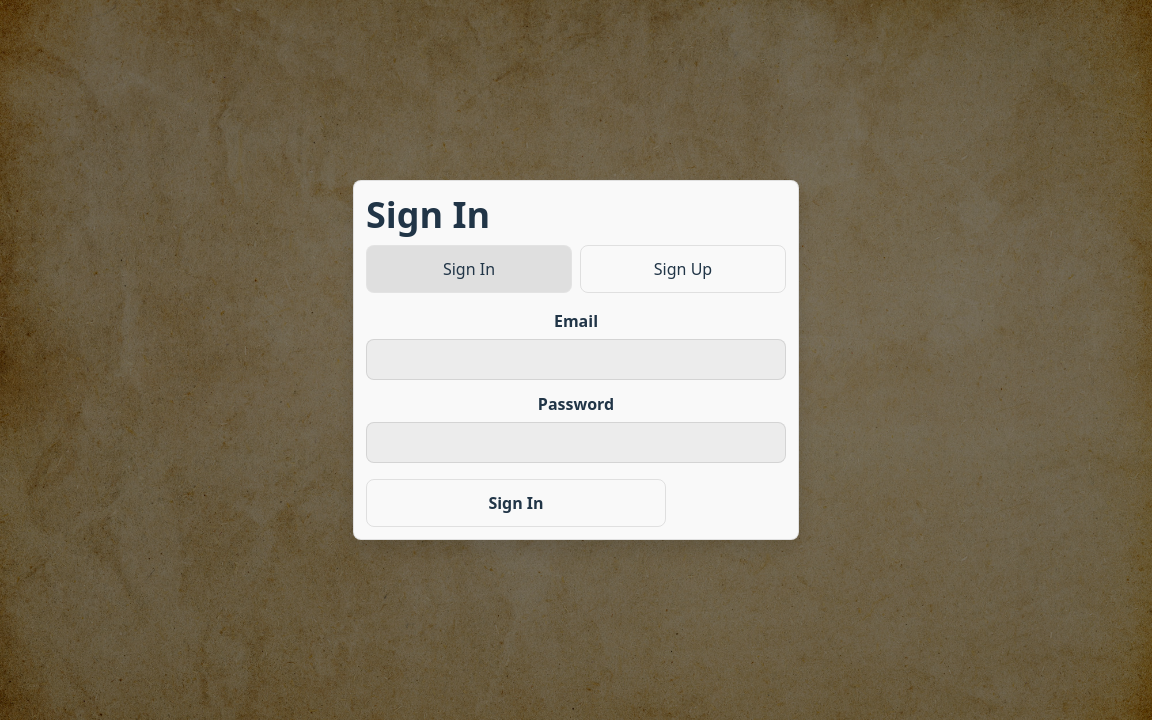
Scenario: LoginWindow › displays error message when passwords do not match in signup mode
The width and height of the screenshot is (1152, 720).
Click the tab "Sign Up".
click(683, 269)  # box [580,245,786,293]
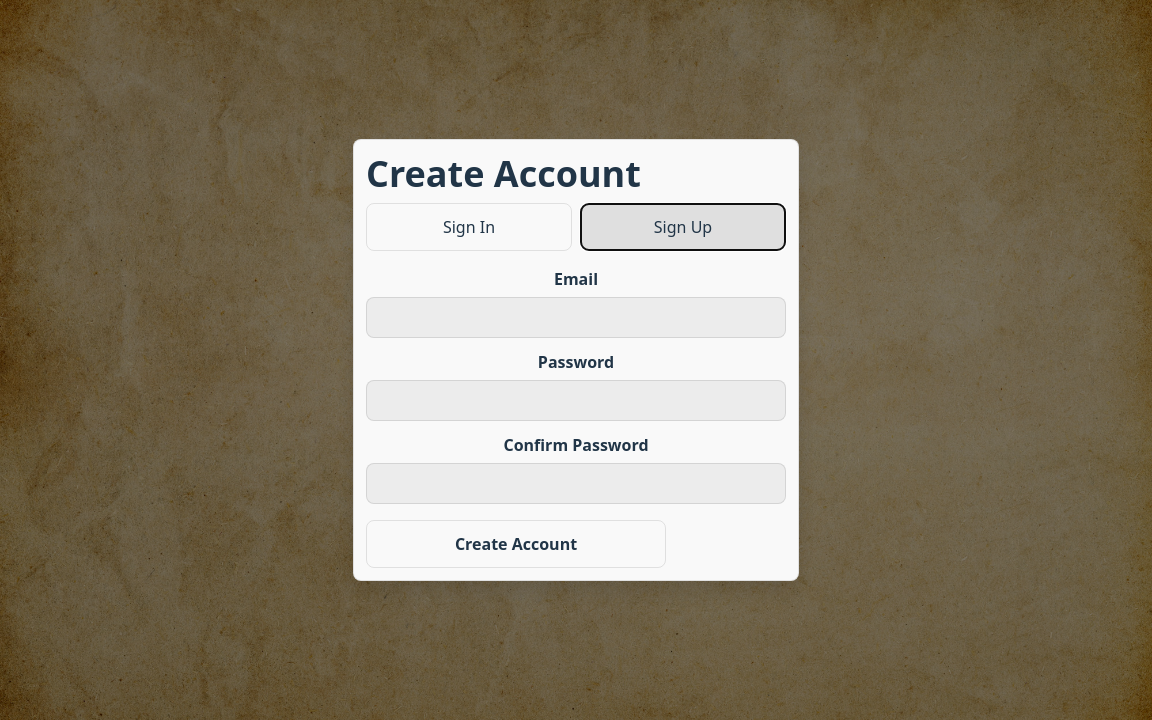
Type "test@example.com" into the field labelled "Email".
click(576, 318); type("test@example.com")  # box [366,297,786,338]
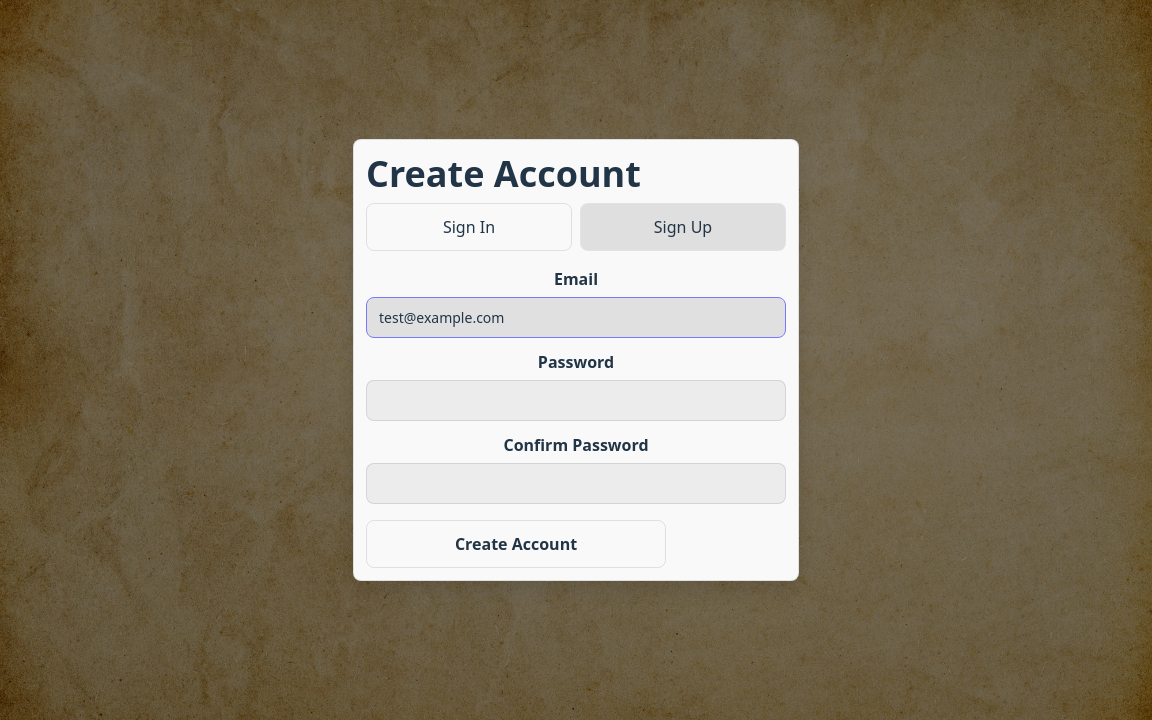
Type "password123" into the password field labelled "Password".
click(576, 401); type("password123")  # box [366,380,786,421]
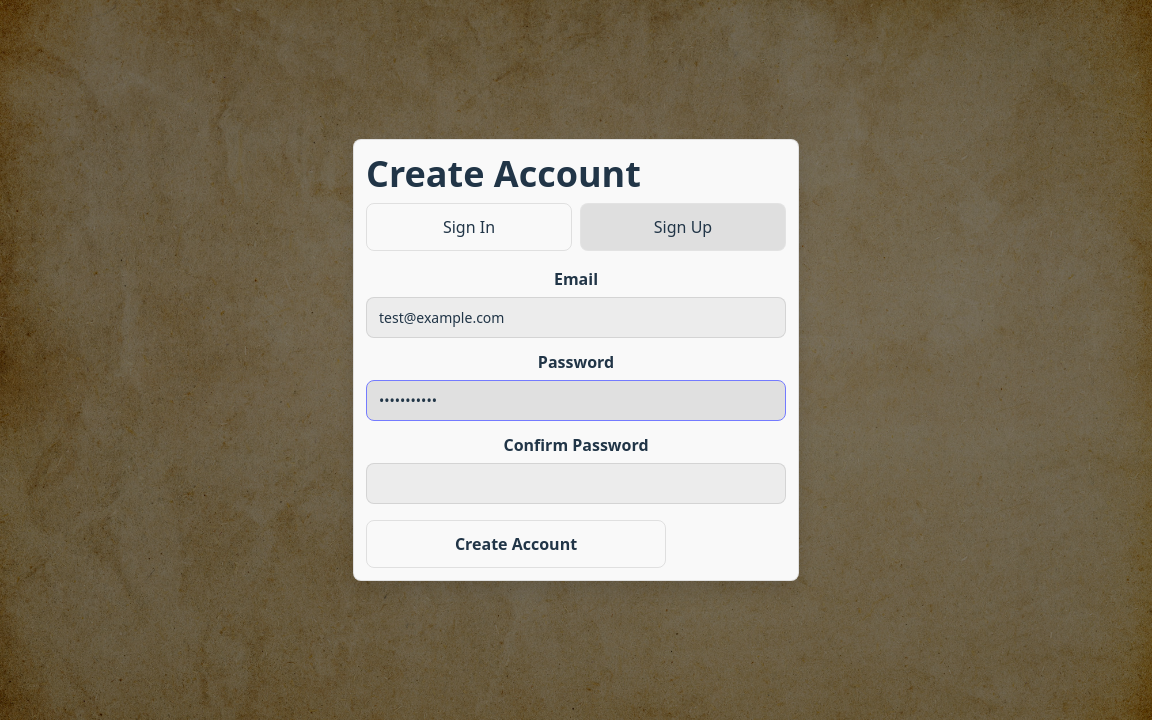
Type "different" into the password field labelled "Confirm Password".
click(576, 484); type("different")  # box [366,463,786,504]
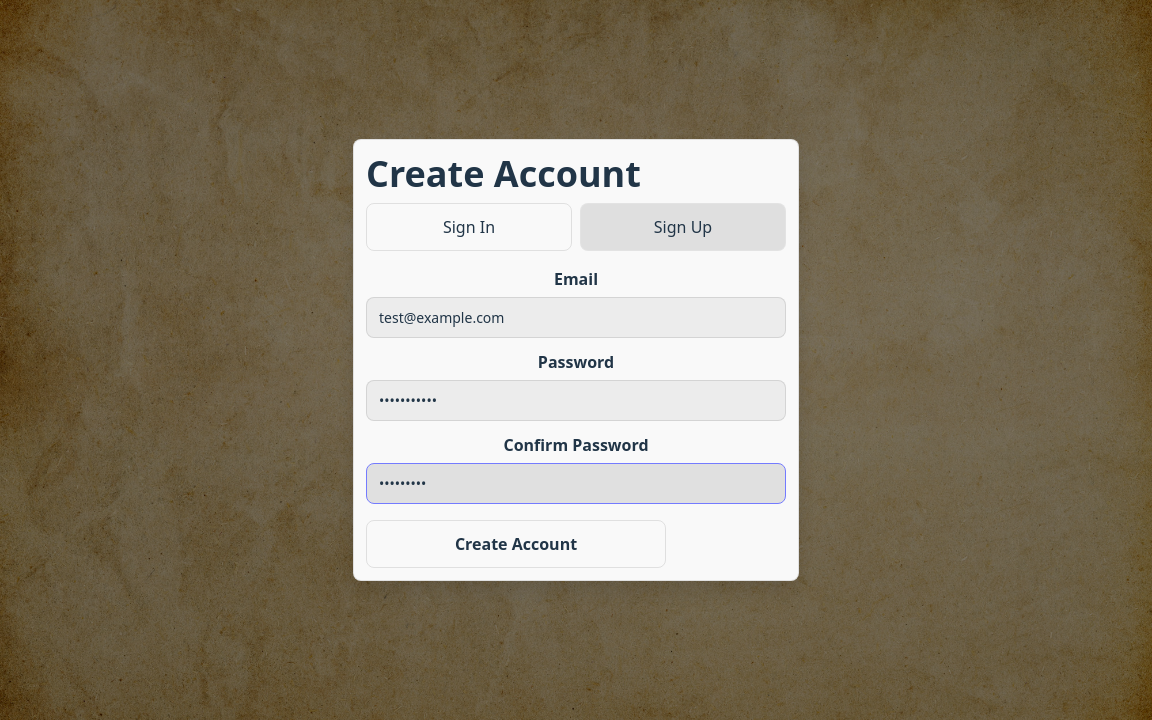
Click the button "Create Account".
click(516, 544)  # box [366,520,666,568]
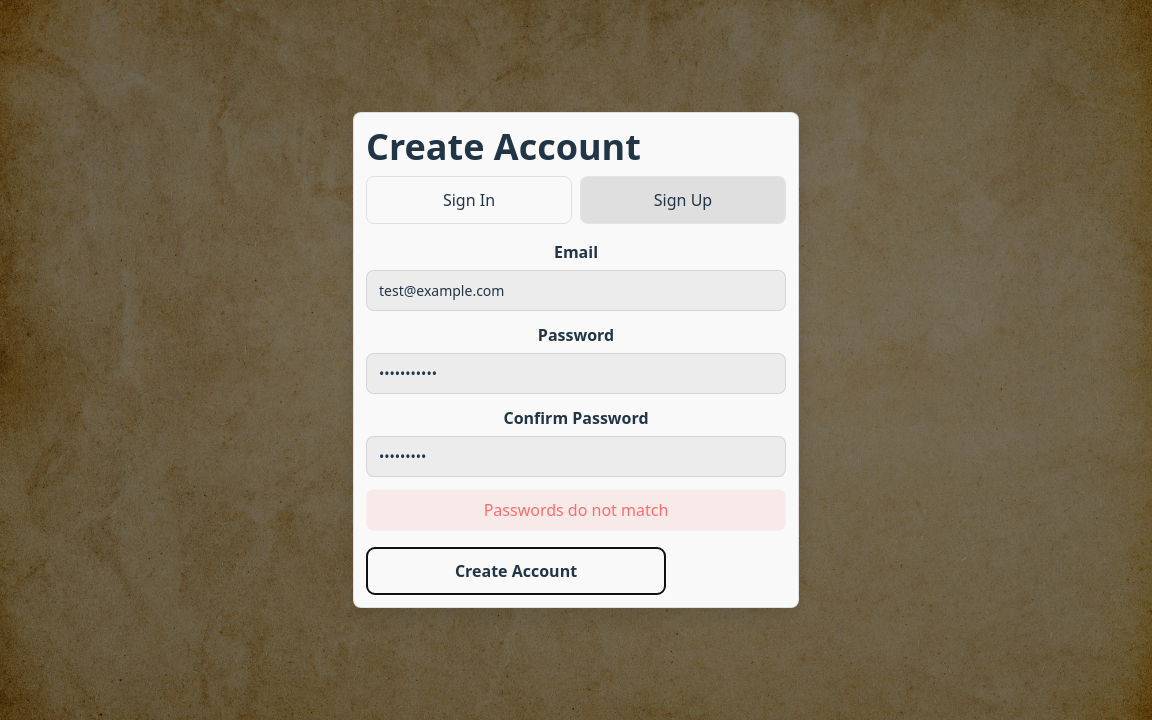
Result: the text "Passwords do not match" is shown at [366,489,786,531]
